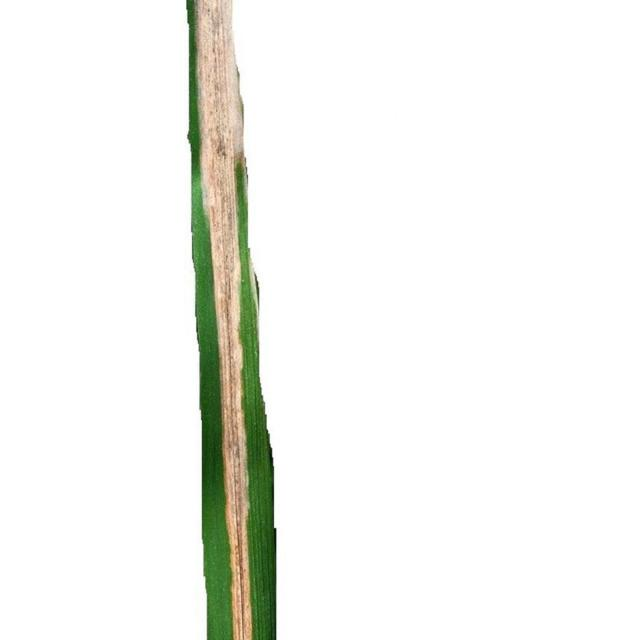Bacterial leaf blight: (193, 0, 255, 634)
